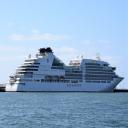cruises: (5, 47, 126, 95)
